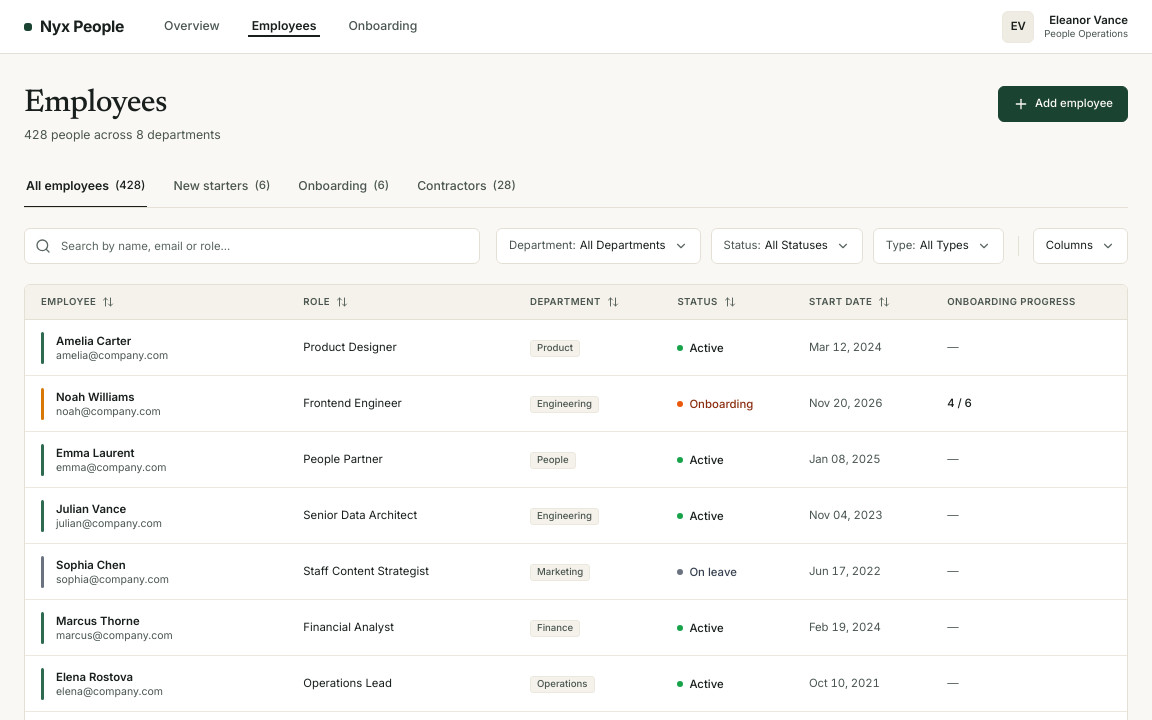
it: EmployeeDirectory Integration › filters employees via search input
Expected: the link "Amelia Carter" is shown, [56,334,131,348]
Type "Noah" into the search field named "search employees by name, email or role" at (252,246), box [24,228,480,264]
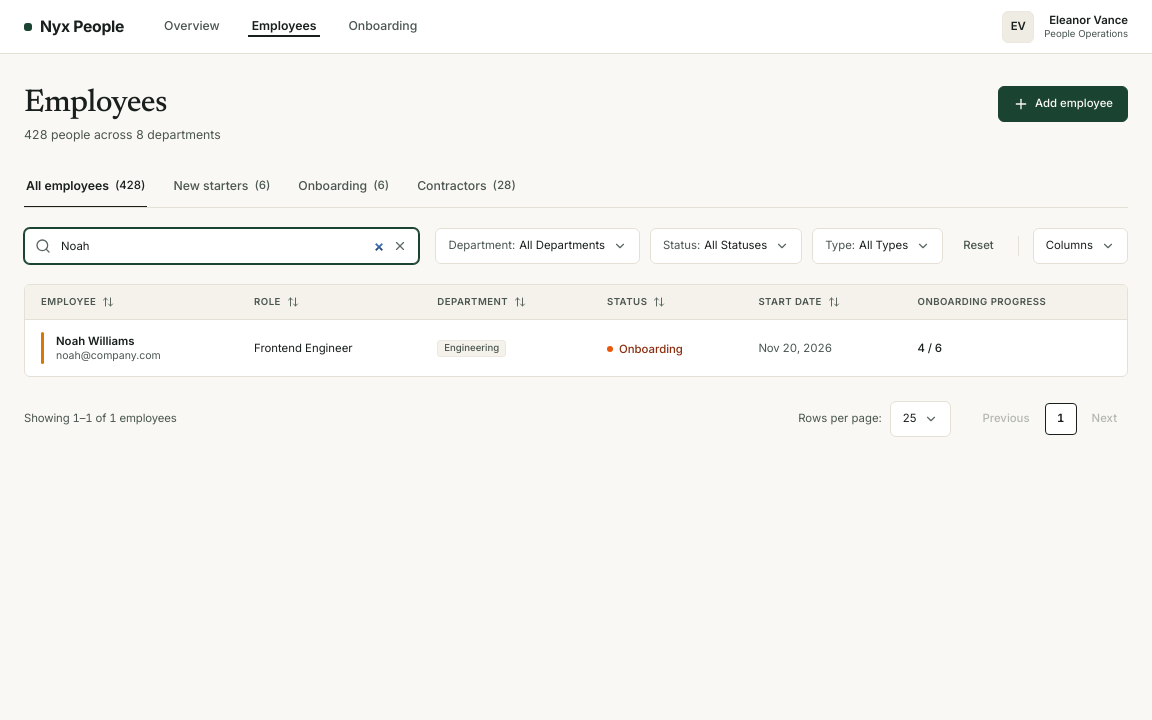
Expected: the link "Noah Williams" is shown, [56,334,134,348]
Expected: the link "Amelia Carter" is gone
